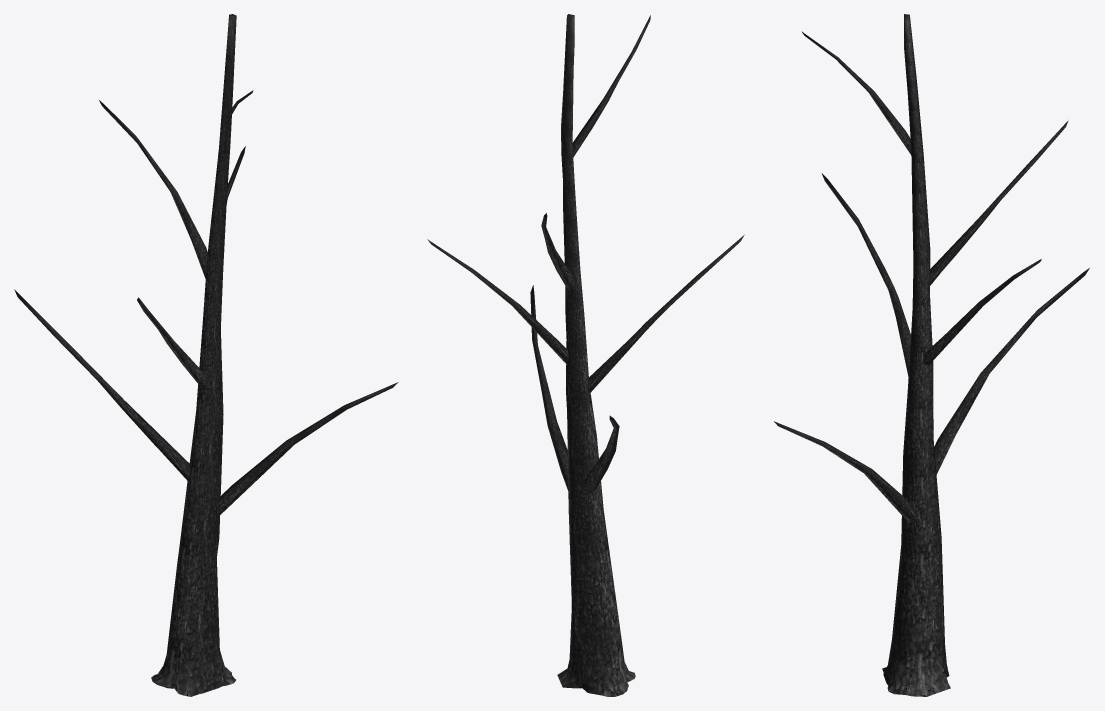
Rendered from tree_8.glb.
3 views of the same model, side by side, from view 1: azimuth 30°, elevation 25°; view 2: azimuth 150°, elevation 25°; view 3: azimuth 270°, elevation 25° (orthographic). The views are drawn at different scales.
Visible parts, largest first — view 1: tree_8; view 2: tree_8; view 3: tree_8.
Part boxes in pixels (left/top/right/bottom): tree_8: left=14, top=14, right=398, bottom=696; tree_8: left=427, top=14, right=744, bottom=696; tree_8: left=774, top=14, right=1089, bottom=696.
Size of the model in its own units: 2.97 by 7.91 by 3.34.
1 material, 1 textured.
